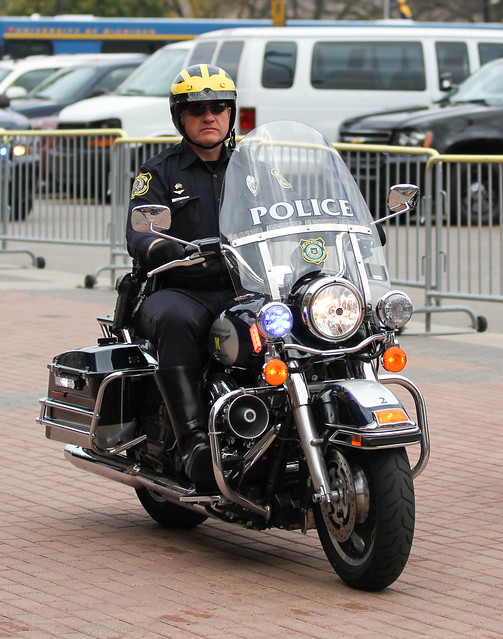helmet: (164, 63, 247, 115)
